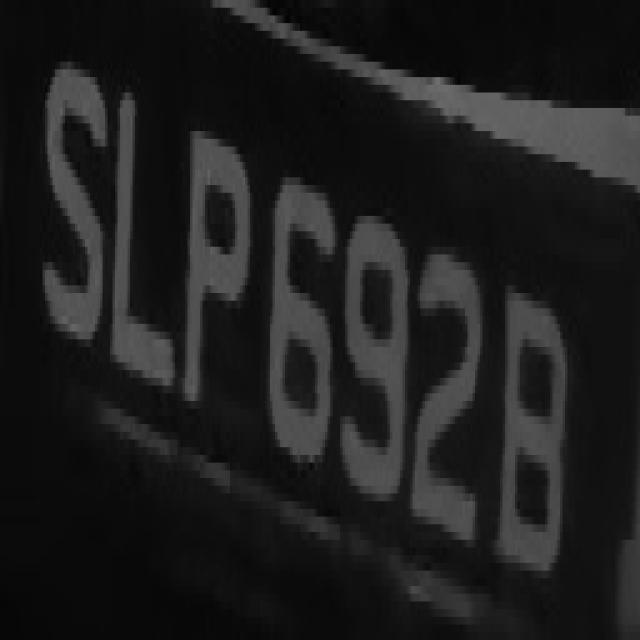2: (415, 193, 485, 555)
6: (262, 146, 342, 486)
9: (342, 162, 412, 532)
B: (495, 231, 577, 586)
L: (112, 46, 172, 440)
P: (178, 85, 252, 439)
S: (38, 46, 110, 355)
